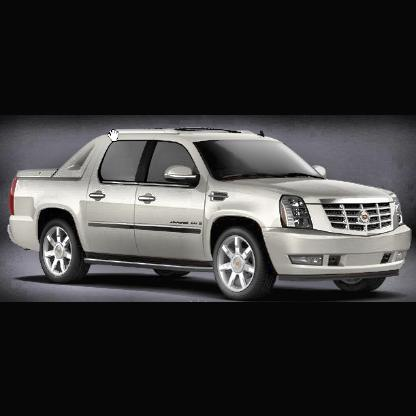Cadillac Escalade EXT Crew Cab 2007: (11, 128, 414, 302)
